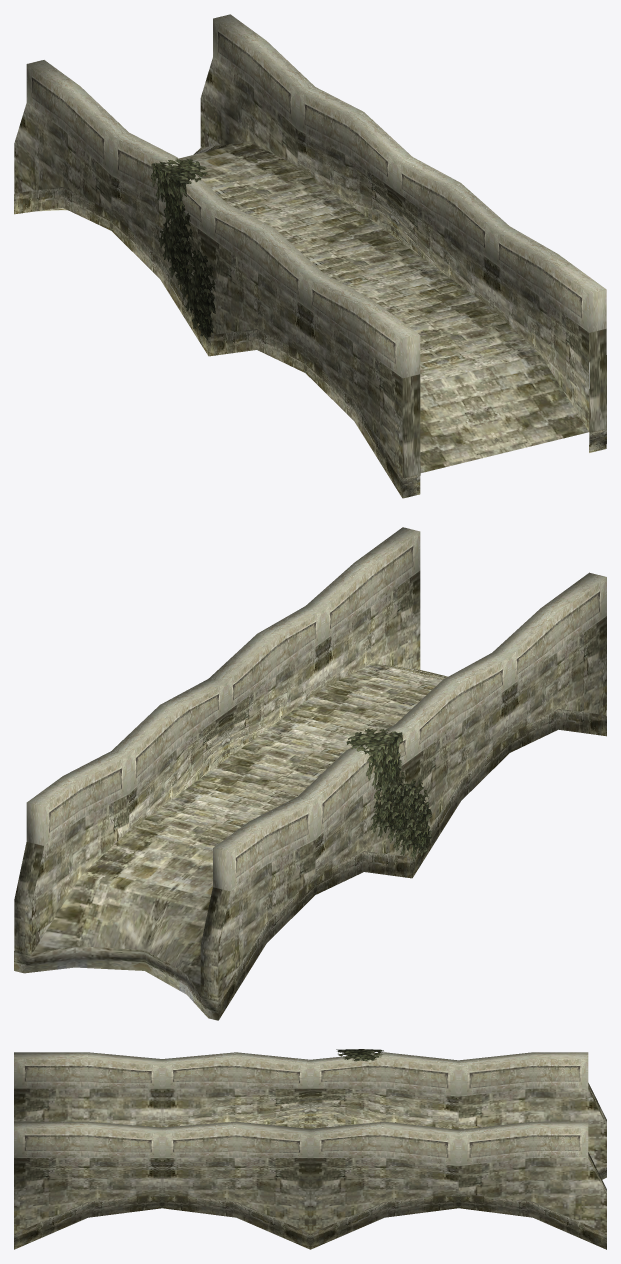
Rendered from OZ_22_ma_relic05A.glb.
3 views of the same model, one above another, from view 1: azimuth 30°, elevation 25°; view 2: azimuth 150°, elevation 25°; view 3: azimuth 270°, elevation 25° (orthographic). The views are drawn at different scales.
Parts seen in each view (by area): view 1: OM_22_ma_relic05A; view 2: OM_22_ma_relic05A; view 3: OM_22_ma_relic05A.
Boxes of the visible parts, <box> form: OM_22_ma_relic05A: <box>14,14,606,498</box>; OM_22_ma_relic05A: <box>14,527,606,1020</box>; OM_22_ma_relic05A: <box>14,1049,606,1249</box>.
Size of the model in its own units: 3.47 by 2.51 by 10.98.
1 material, 1 textured.
